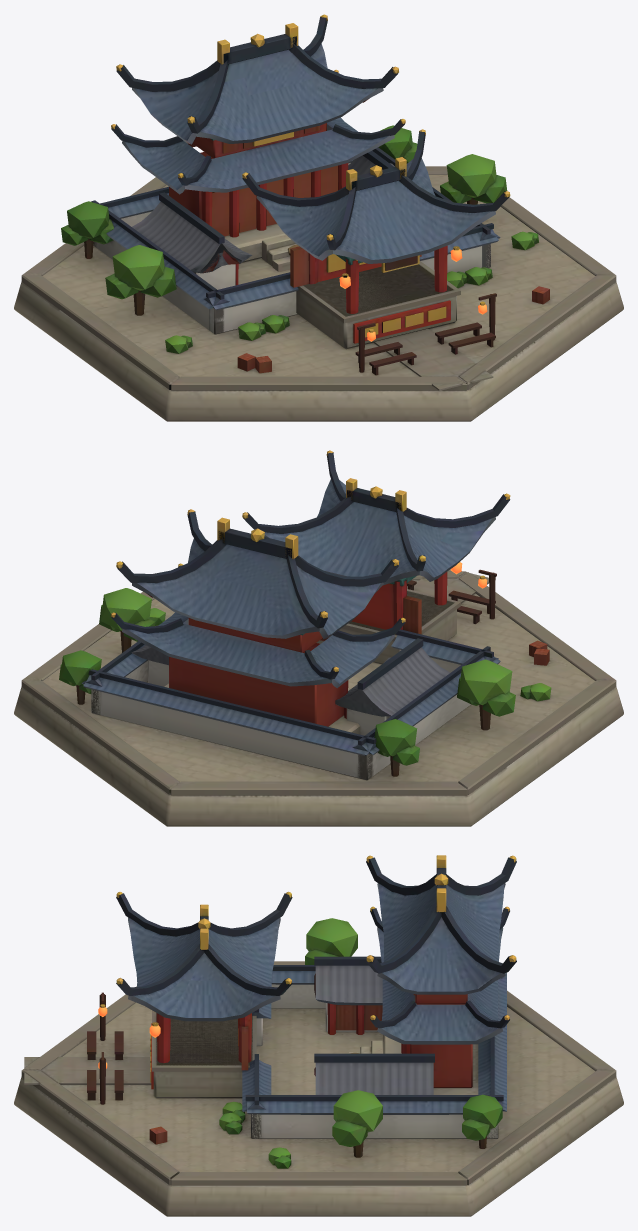
The model's file is a_guild.glb.
3 views of the same model, one above another, from view 1: azimuth 30°, elevation 25°; view 2: azimuth 150°, elevation 25°; view 3: azimuth 270°, elevation 25° (orthographic).
Visible parts, largest first — view 1: guild; view 2: guild; view 3: guild.
Part boxes in pixels (left/top/right/bottom): guild: left=14, top=14, right=623, bottom=421; guild: left=14, top=450, right=623, bottom=826; guild: left=14, top=855, right=623, bottom=1216.
Size of the model in its own units: 8.1 by 3.9 by 9.31.
2 materials, 1 textured.
